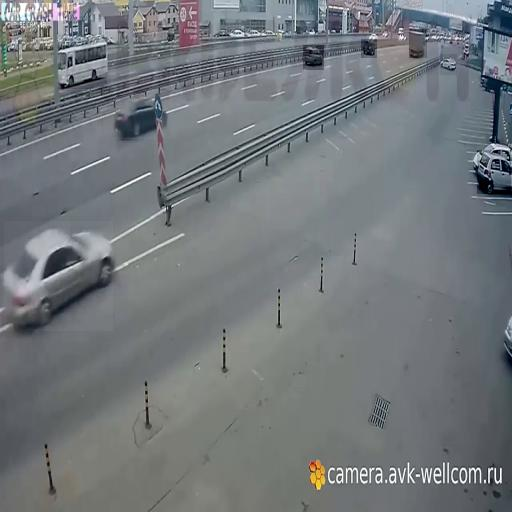小汽车: (4, 221, 113, 331), (58, 38, 107, 89), (116, 96, 156, 140), (478, 150, 512, 194), (303, 45, 324, 70), (410, 29, 428, 58), (440, 54, 457, 75), (361, 39, 377, 58)
